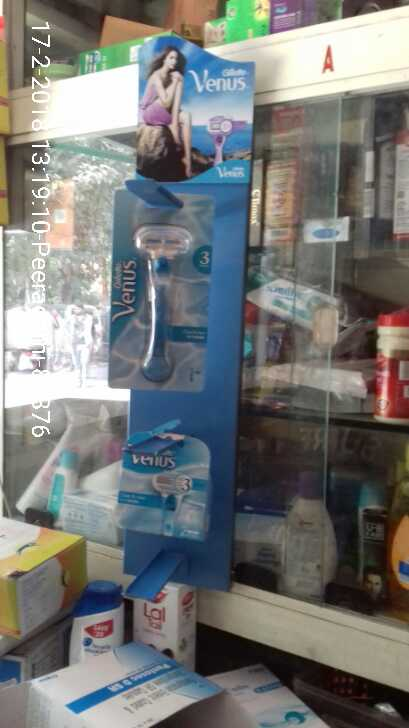venus: (108, 185, 215, 399), (113, 420, 213, 537)
